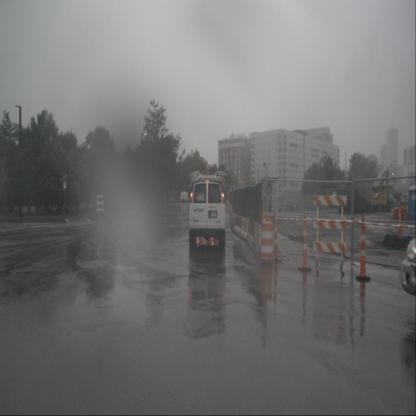barrier: (251, 222, 267, 258), (246, 220, 260, 249), (240, 217, 251, 241), (234, 216, 245, 237), (392, 207, 408, 221), (230, 213, 240, 233)
cone: (355, 214, 371, 282), (257, 211, 276, 263), (298, 210, 311, 270), (272, 214, 281, 263), (397, 206, 403, 239), (404, 200, 410, 221), (377, 209, 381, 220)
